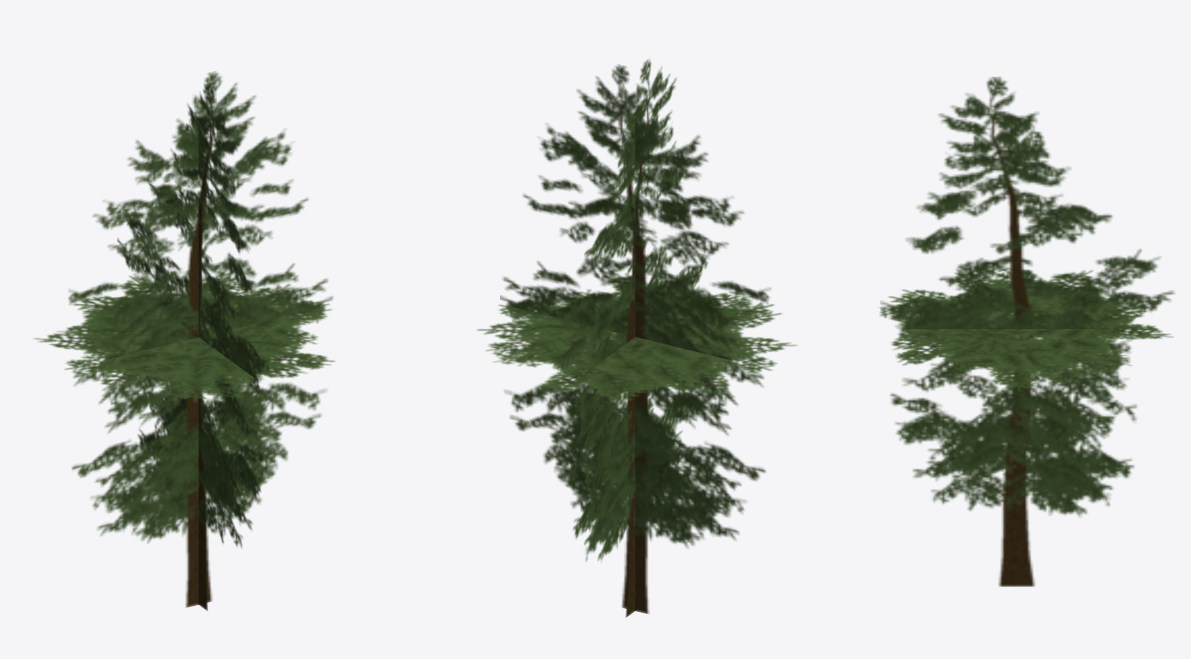
File: fir-large-2-lod-3.glb
3 renders of one model, left to right at view 1: azimuth 30°, elevation 25°; view 2: azimuth 150°, elevation 25°; view 3: azimuth 270°, elevation 25°, orthographic. The views are drawn at different scales.
Visible parts, largest first — view 1: fir-large-2-lod-3; view 2: fir-large-2-lod-3; view 3: fir-large-2-lod-3.
Part boxes in pixels (x1,y1,x2,y2): fir-large-2-lod-3: (34,71,334,610); fir-large-2-lod-3: (477,59,796,617); fir-large-2-lod-3: (879,77,1174,586).
Size of the model in its own units: 4.9 by 9.17 by 4.88.
Materials: 1 (1 with a texture image).
